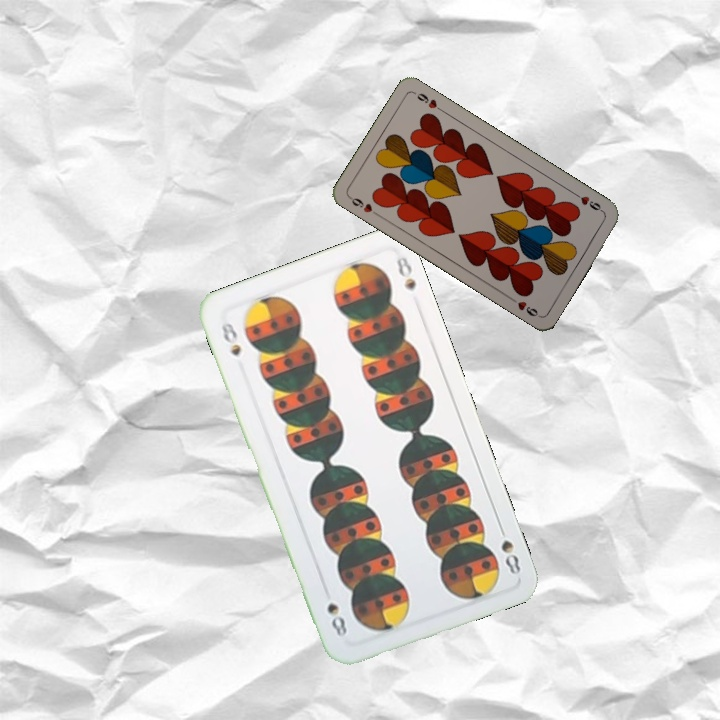H9: (345, 192, 381, 219), (570, 188, 606, 215)
S8: (494, 520, 524, 578), (217, 319, 244, 359)
